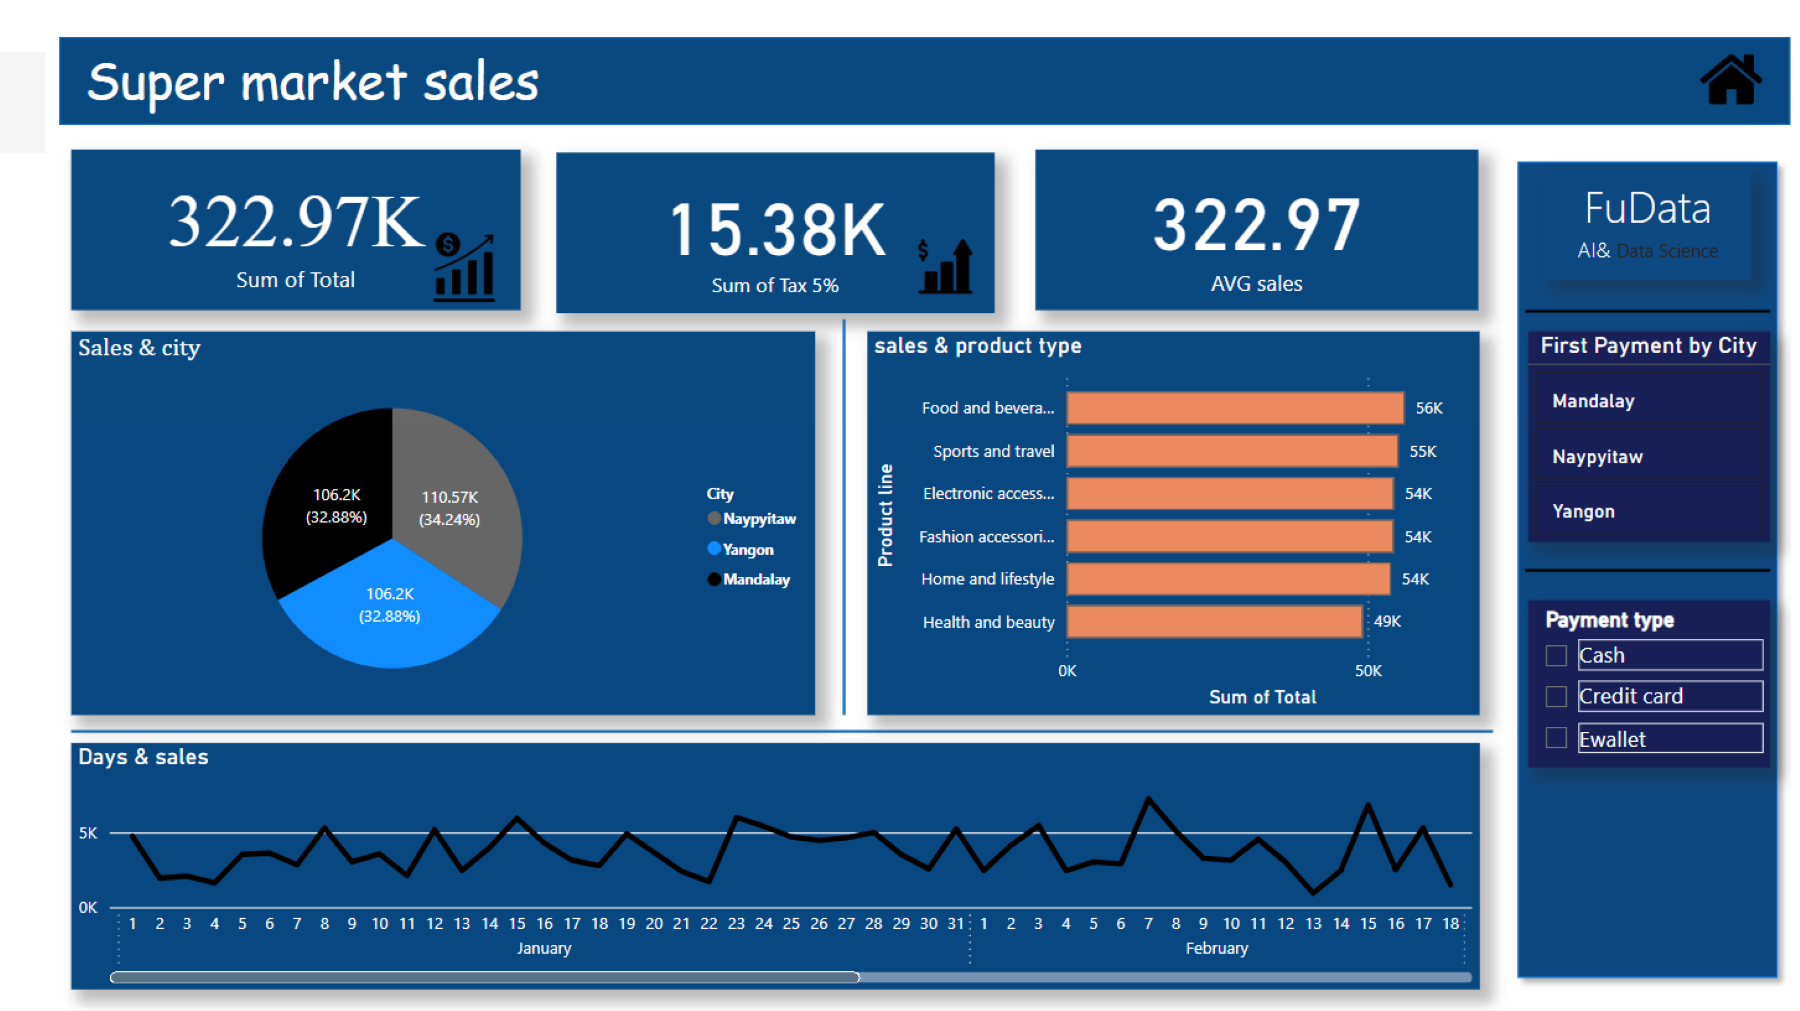

What the dashboard file says about the page in this screenshot:
{"tool":"powerbi","page":{"name":"Page 1","canvas":[1280,720],"ordinal":0},"visuals":[{"type":"shape","box":[0,0,1280,65],"z":0},{"type":"textbox","box":[0,0,374.4,65.6],"z":1000},{"type":"card","fields":{"Values":["Sum(supermarket_sales (1).Total)"]},"box":[8.8,83.8,332.5,118.8],"z":2000},{"type":"card","fields":{"Values":["Sum(supermarket_sales (1).Tax 5%)"]},"box":[367.5,85,323.8,118.8],"z":3000},{"type":"pieChart","title":"Sales & city","fields":{"Category":["supermarket_sales (1).City"],"Y":["Sum(supermarket_sales (1).Total)"]},"box":[8.8,217.5,550,283.8],"z":4000},{"type":"shape","box":[1070,83.8,210,621.2],"z":5000},{"type":"advancedSlicerVisual","fields":{"Values":["supermarket_sales (1).City"]},"box":[1086.2,217.5,178.8,156.2],"z":6000},{"type":"shape","box":[1083.8,196.2,181.2,12.5],"z":7000},{"type":"textbox","box":[1098.8,97.5,152.5,81.2],"z":8000},{"type":"lineChart","title":"Days & sales","fields":{"Category":["supermarket_sales (1).Date.Variation.Date Hierarchy.Month","supermarket_sales (1).Date.Variation.Date Hierarchy.Day"],"Y":["Sum(supermarket_sales (1).Total)"]},"box":[8.8,522.5,1041.2,182.5],"z":9000},{"type":"card","fields":{"Values":["supermarket_sales (1).Measure"]},"box":[722.5,83.8,327.5,118.8],"z":10000},{"type":"shape","box":[505,208.8,150,292.5],"z":11000},{"type":"shape","box":[8.8,361.2,1051.2,305],"z":12000},{"type":"image","box":[626.2,143.8,57.5,52.5],"z":13000},{"type":"image","box":[1208.8,0,56.2,62.5],"z":14000},{"type":"image","box":[266.2,138.8,66.2,62.5],"z":15000},{"type":"clusteredBarChart","title":"sales & product type","fields":{"Y":["Sum(supermarket_sales (1).Total)"],"Category":["supermarket_sales (1).Product line"]},"box":[597.5,217.5,452.5,283.8],"z":16000},{"type":"shape","box":[1083.8,373.8,181.2,42.5],"z":17000},{"type":"slicer","fields":{"Values":["supermarket_sales (1).Payment"]},"box":[1086.2,416.2,178.8,123.8],"z":18000}]}

Visuals, with their boxes in screenshot pixels (x1, y1, x2, y2), scaled from the page's 1280x720 canvas onto the 1800x1011 screenshot:
shape: left=0, top=0, right=1799, bottom=91
textbox: left=0, top=0, right=526, bottom=92
card - Sum(supermarket_sales (1).Total): left=12, top=118, right=480, bottom=284
card - Sum(supermarket_sales (1).Tax 5%): left=517, top=119, right=972, bottom=286
"Sales & city" pieChart: left=12, top=305, right=786, bottom=704
shape: left=1505, top=118, right=1799, bottom=990
advancedSlicerVisual - supermarket_sales (1).City: left=1527, top=305, right=1779, bottom=525
shape: left=1524, top=275, right=1779, bottom=293
textbox: left=1545, top=137, right=1760, bottom=251
"Days & sales" lineChart: left=12, top=734, right=1477, bottom=990
card - supermarket_sales (1).Measure: left=1016, top=118, right=1477, bottom=284
shape: left=710, top=293, right=921, bottom=704
shape: left=12, top=507, right=1491, bottom=935
image: left=881, top=202, right=961, bottom=276
image: left=1700, top=0, right=1779, bottom=88
image: left=374, top=195, right=467, bottom=283
"sales & product type" clusteredBarChart: left=840, top=305, right=1477, bottom=704
shape: left=1524, top=525, right=1779, bottom=585
slicer - supermarket_sales (1).Payment: left=1527, top=584, right=1779, bottom=758
